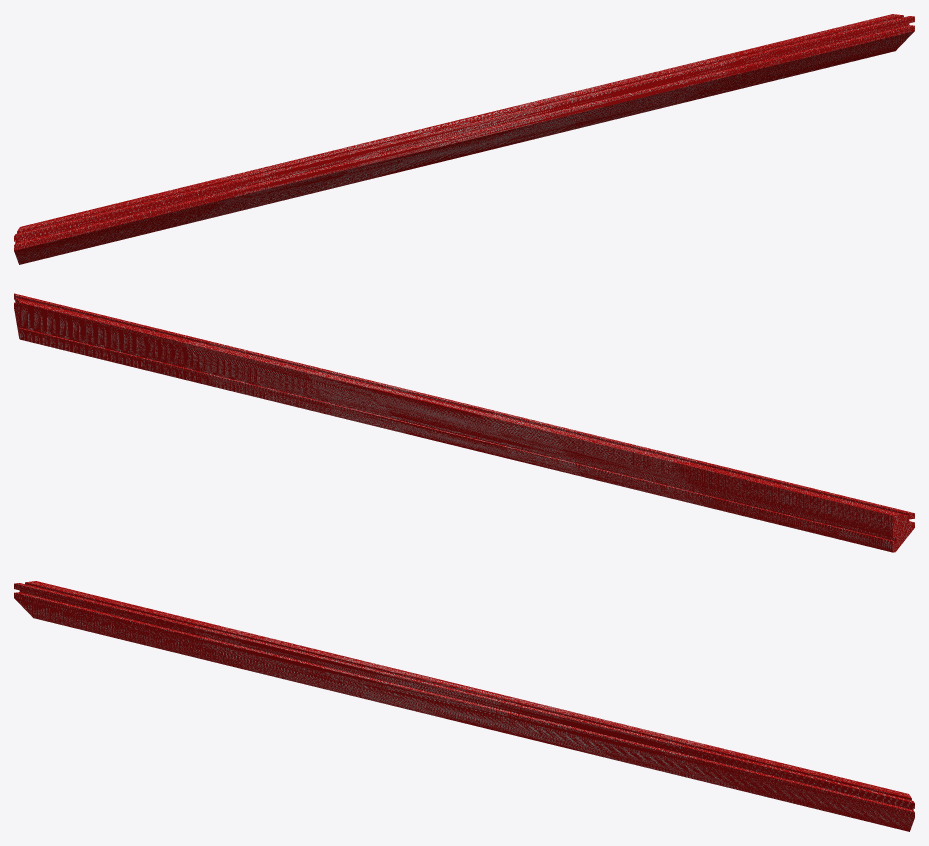
The model's file is original-10.obj.
3 views of the same model, one above another, from view 1: azimuth 30°, elevation 25°; view 2: azimuth 150°, elevation 25°; view 3: azimuth 330°, elevation 25° (orthographic).
Visible parts, largest first — view 1: P._Crown_Bevel_Front1/P._Crown_Bevel_Front/mesh11/mesh11-geometr; view 2: P._Crown_Bevel_Front1/P._Crown_Bevel_Front/mesh11/mesh11-geometr; view 3: P._Crown_Bevel_Front1/P._Crown_Bevel_Front/mesh11/mesh11-geometr.
Part boxes in pixels (left/top/right/bottom): P._Crown_Bevel_Front1/P._Crown_Bevel_Front/mesh11/mesh11-geometr: left=14, top=14, right=914, bottom=264; P._Crown_Bevel_Front1/P._Crown_Bevel_Front/mesh11/mesh11-geometr: left=14, top=293, right=914, bottom=552; P._Crown_Bevel_Front1/P._Crown_Bevel_Front/mesh11/mesh11-geometr: left=14, top=581, right=914, bottom=831.
Size of the model in its own units: 0.4709 by 0.0184 by 0.00736.
